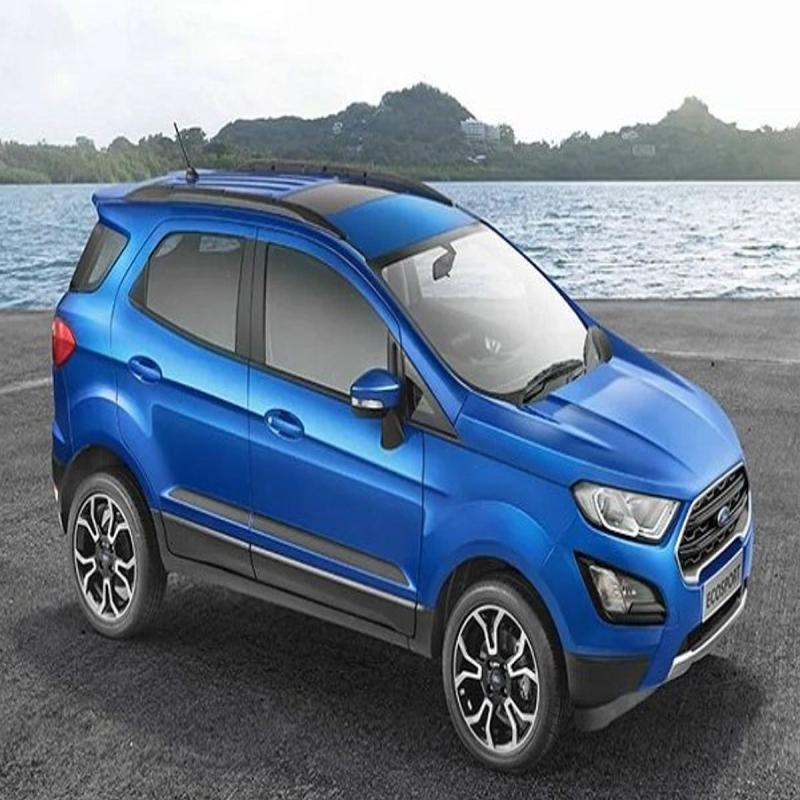car: (57, 143, 760, 748)
